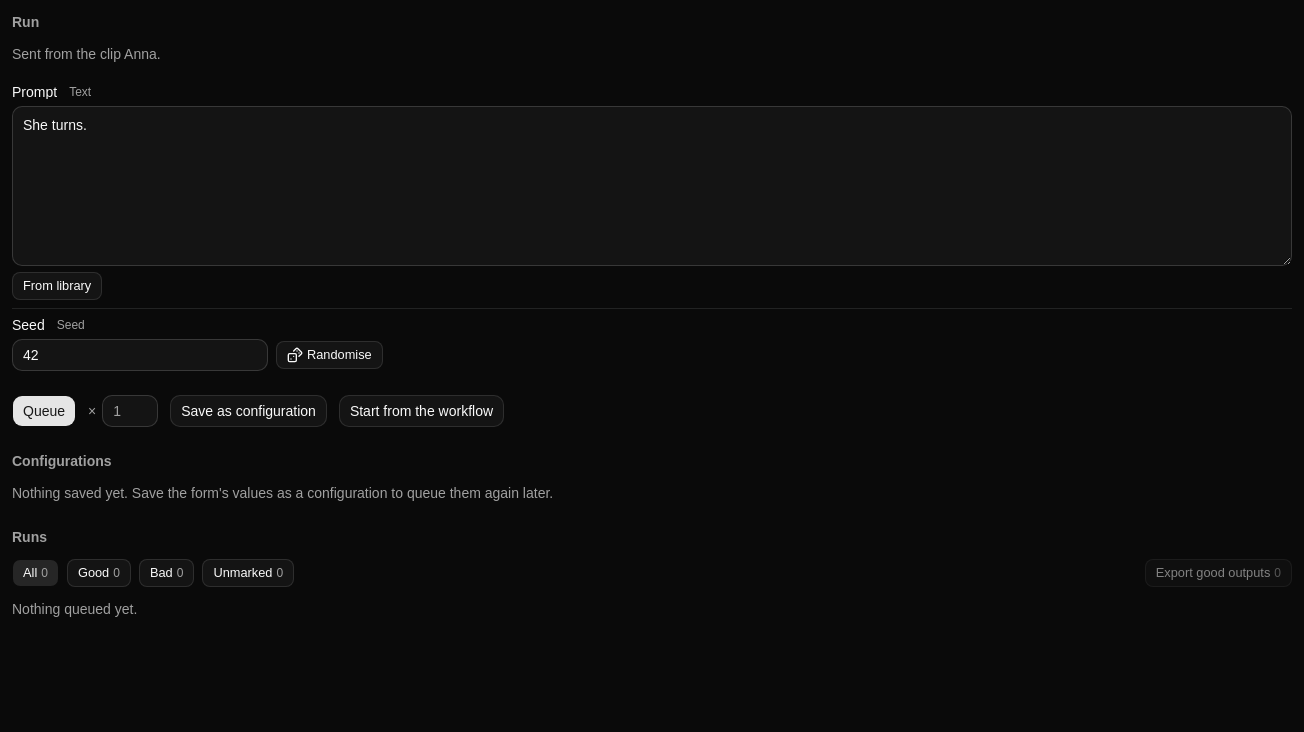
WorkflowRunView › starts from the workflow's saved values again after a clip's prompt was sent
The image size is (1304, 732).
Click the button "Start from the workflow": (422, 411) top-left (339, 395), bottom-right (504, 427)
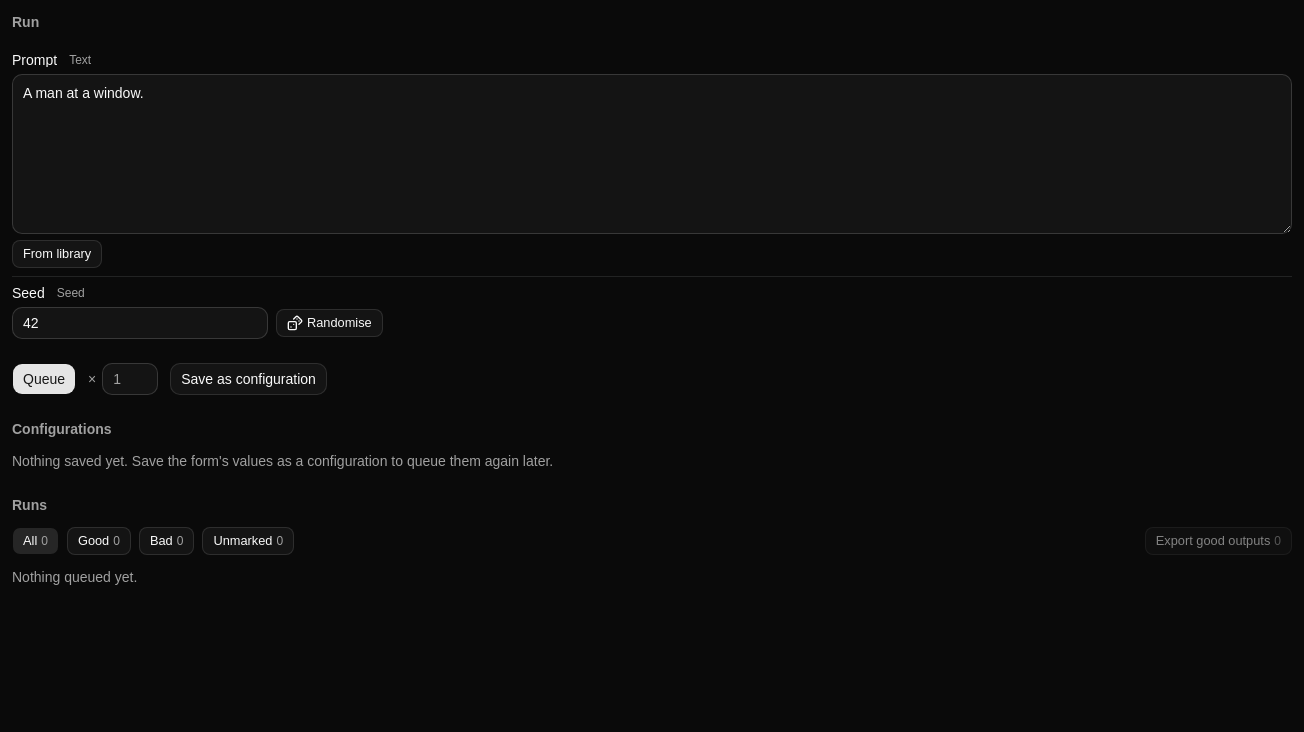
Now the text box labelled "Prompt" holds "A man at a window.", box top-left (12, 74), bottom-right (1292, 234)
Now the text "Sent from the clip Anna." is gone
